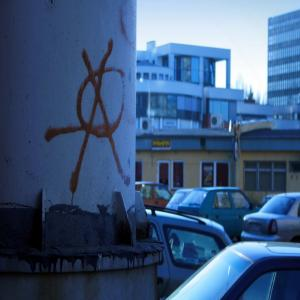Vehicle-registration-plate: (251, 225, 262, 232)
